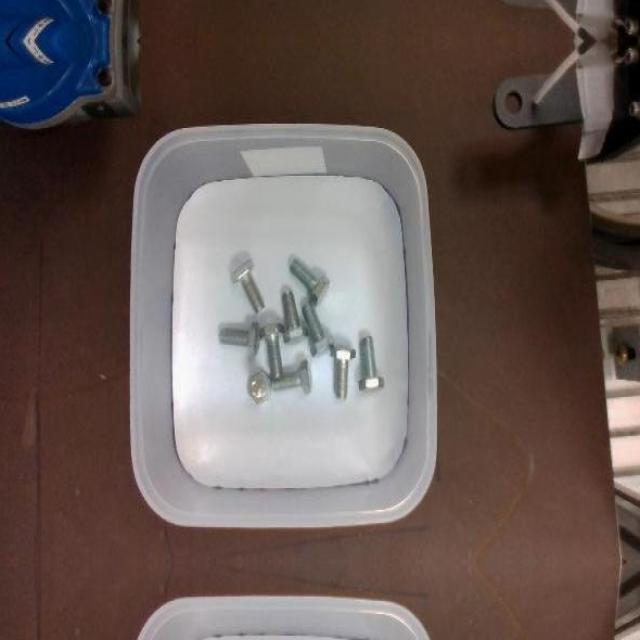screw: (290, 259, 330, 307), (230, 259, 265, 313), (303, 302, 335, 356), (220, 322, 262, 357), (282, 288, 308, 344), (272, 359, 312, 395), (262, 322, 286, 380), (359, 336, 384, 391), (330, 345, 354, 400), (248, 369, 272, 403)
